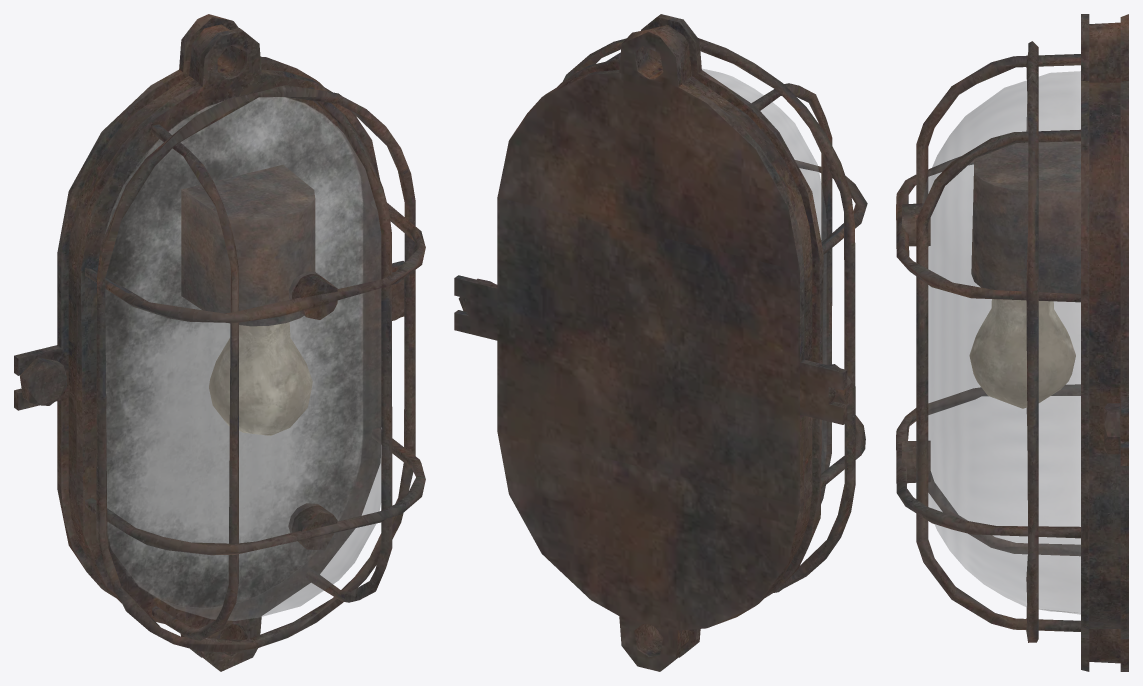
File: industrial_wall_lamp.glb
3 views of the same model, side by side, from view 1: azimuth 30°, elevation 25°; view 2: azimuth 150°, elevation 25°; view 3: azimuth 270°, elevation 25° (orthographic).
Parts seen in each view (by area): view 1: industrial_wall_lamp; view 2: industrial_wall_lamp; view 3: industrial_wall_lamp.
Part boxes in pixels (x1,y1,x2,y2): industrial_wall_lamp: [14, 14, 425, 671]; industrial_wall_lamp: [454, 14, 867, 671]; industrial_wall_lamp: [896, 14, 1128, 671].
Bounding box in the file's own units: 0.2734 × 0.4283 × 0.1393.
2 materials, 2 textured.
